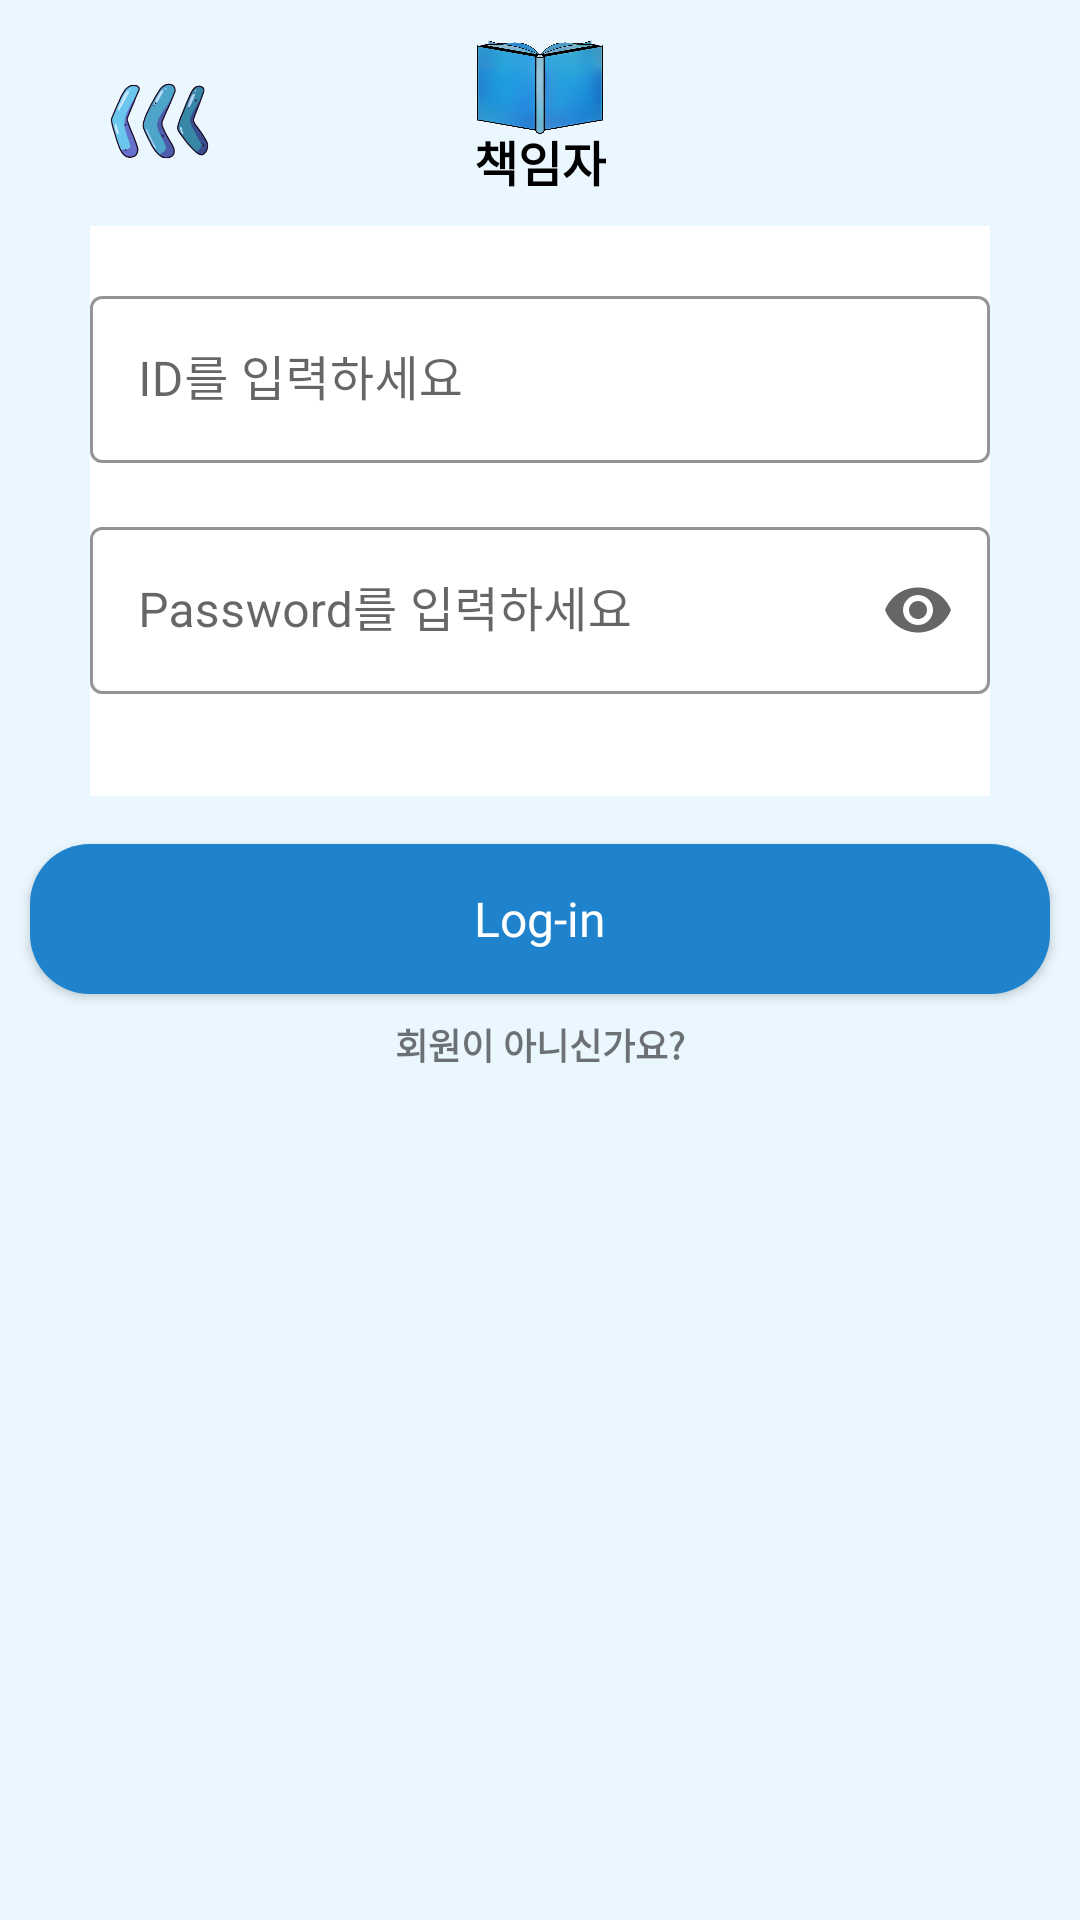

Named icons in this screenshot (1080*1920) and their centers, [x,y]:
before: [159,120]
book: [540,87]
